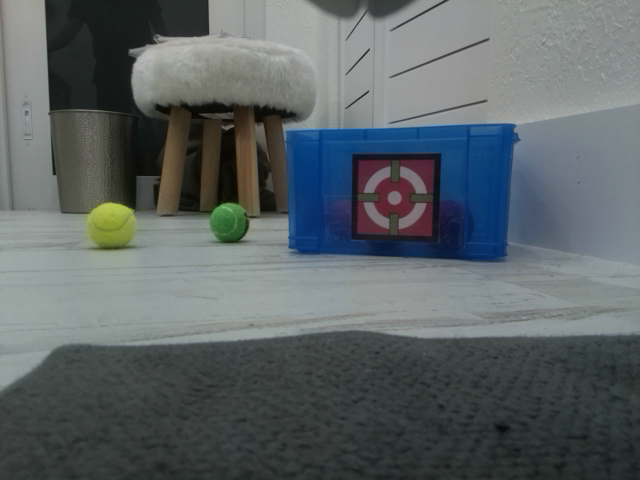drop-bin: (350, 152, 441, 243)
green-ball: (209, 200, 250, 244)
yellow-ball: (85, 201, 137, 251)
